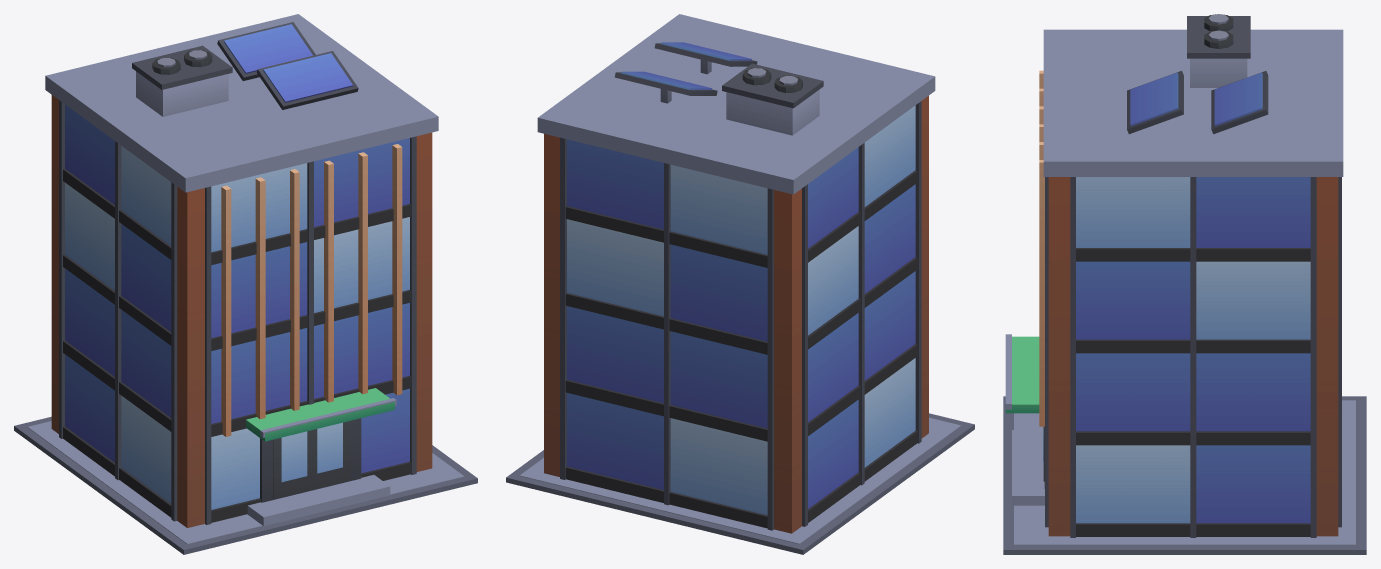
Rendered from off_boutique_1x1.glb.
3 views of the same model, side by side, from view 1: azimuth 30°, elevation 25°; view 2: azimuth 150°, elevation 25°; view 3: azimuth 270°, elevation 25° (orthographic). The views are drawn at different scales.
Visible parts, largest first — view 1: off_boutique_1x1; view 2: off_boutique_1x1; view 3: off_boutique_1x1.
Part boxes in pixels (x1,y1,x2,y2): off_boutique_1x1: (14, 14, 477, 554); off_boutique_1x1: (506, 14, 974, 554); off_boutique_1x1: (1003, 14, 1366, 554).
Bounding box in the file's own units: 1.72 × 2.23 × 1.72.
1 material, 1 textured.
